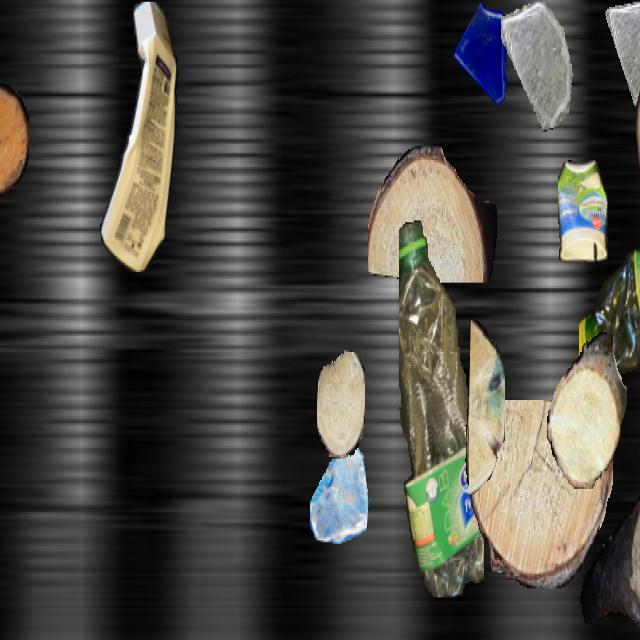glass: (501, 2, 573, 130), (453, 1, 517, 116), (310, 439, 368, 542), (605, 2, 640, 105)
metal: (0, 351, 7, 428)
plastic: (399, 218, 483, 596), (94, 2, 182, 272), (579, 224, 640, 388), (558, 160, 608, 263)
wood: (465, 400, 613, 588), (368, 146, 496, 281), (547, 332, 627, 489), (579, 496, 640, 638), (469, 320, 505, 494), (317, 350, 365, 457), (0, 84, 29, 194), (636, 45, 640, 218)
